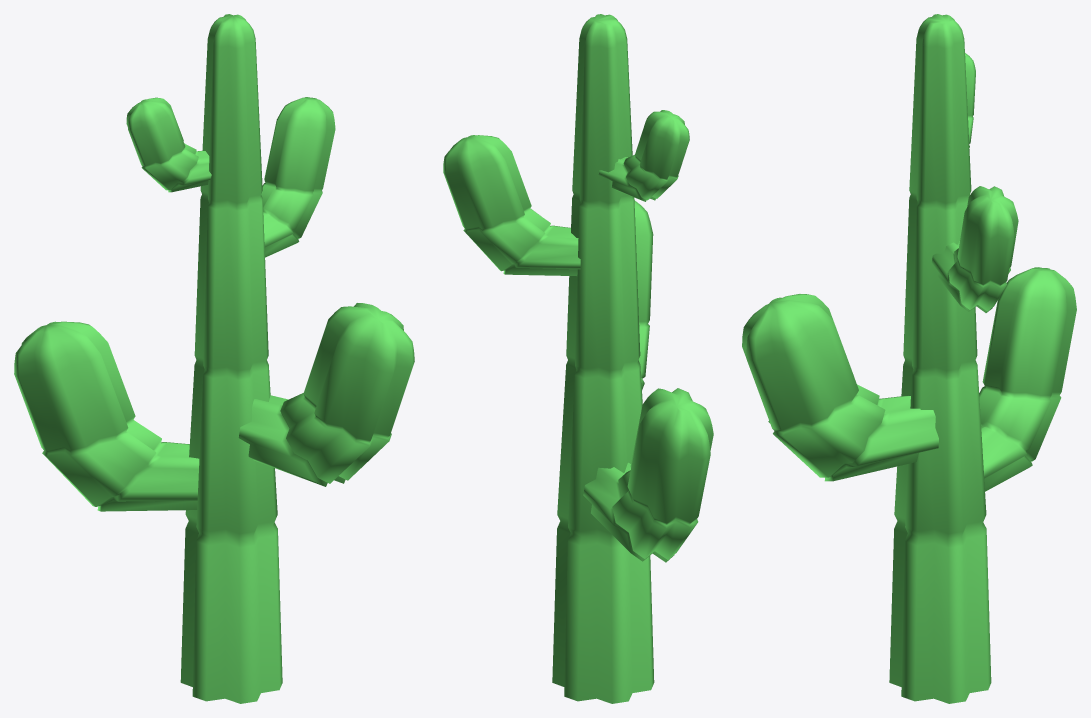
Rendered from Cactus1.fbx.
3 renders of one model, left to right at view 1: azimuth 30°, elevation 25°; view 2: azimuth 150°, elevation 25°; view 3: azimuth 270°, elevation 25°, orthographic.
Parts seen in each view (by area): view 1: Cylinder.003; view 2: Cylinder.003; view 3: Cylinder.003.
Part boxes in pixels (box(x1,y1,x2,y2)): Cylinder.003: box(14, 14, 414, 703); Cylinder.003: box(443, 14, 713, 703); Cylinder.003: box(742, 14, 1076, 703).
Bounding box in the file's own units: 1.81 × 3.97 × 1.82.
